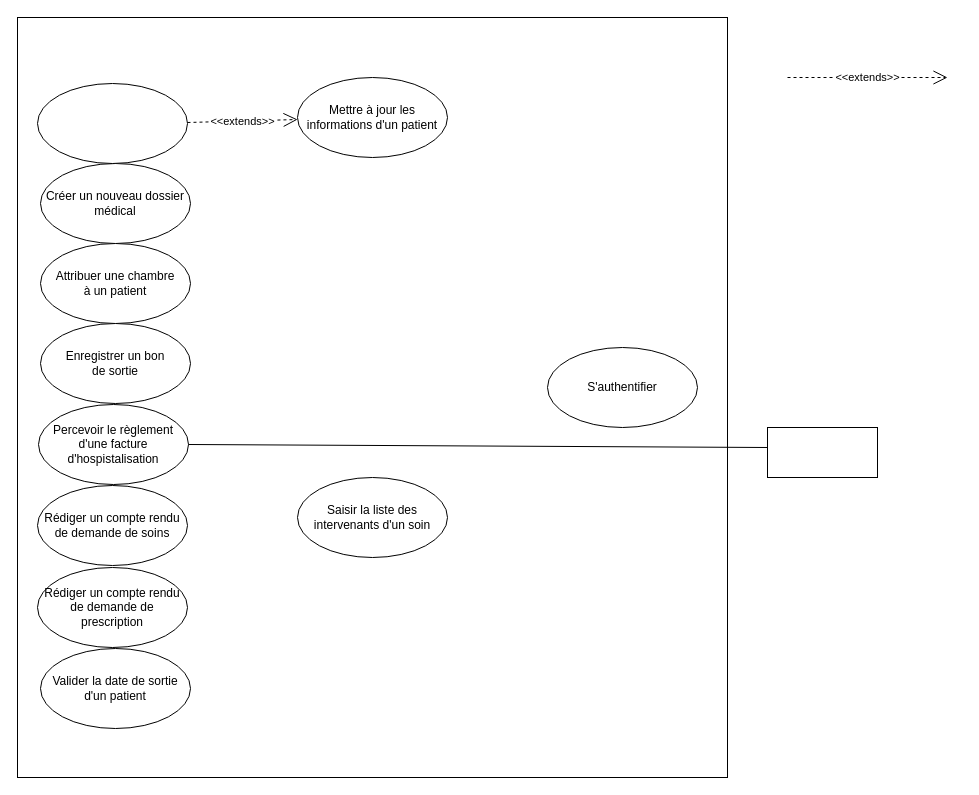
Image size: 979x795. Some labels were removed from this diagram. The centre of each missing label's shape, as x and y in pixels:
"<<actor>> API Stripe" goes at pixel 822 452.
"Rechercher les informations d'un patient" goes at pixel 112 123.
